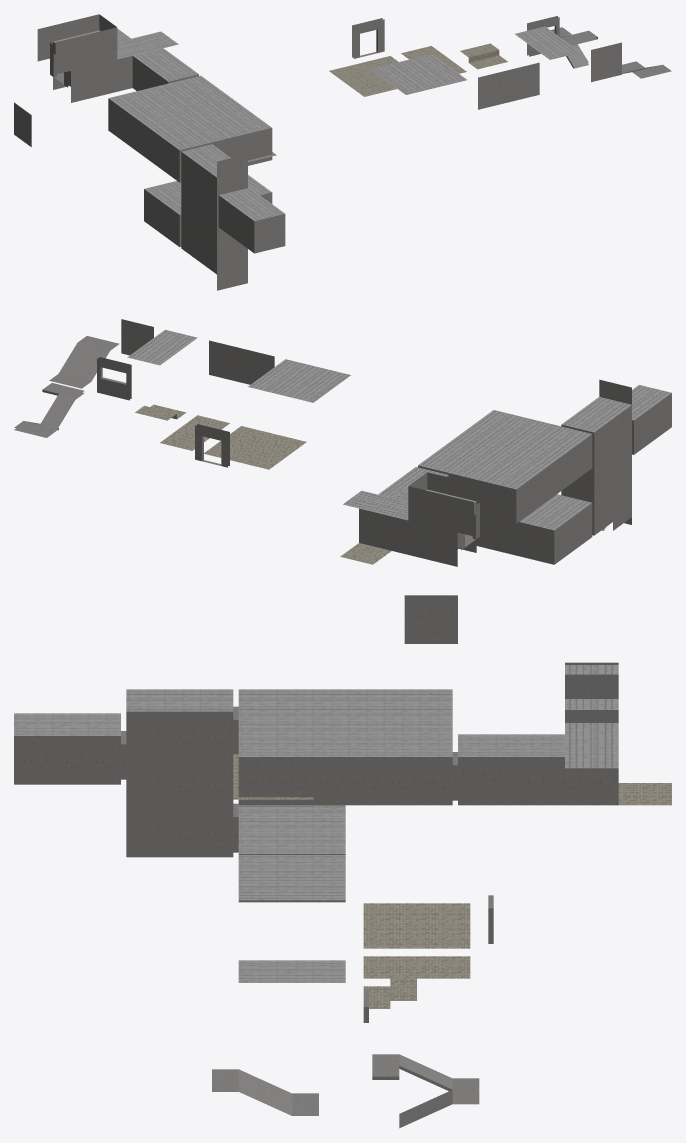
File: realism.glb
The picture shows the model from 3 angles, top to bottom: view 1: azimuth 30°, elevation 25°; view 2: azimuth 150°, elevation 25°; view 3: azimuth 270°, elevation 25°; orthographic projection. The views are drawn at different scales.
Parts seen in each view (by area): view 1: ceiling.001, ceiling.004, wall.029, wall.045, wall.024, ceiling.012, floor.014, wall.007, wall.034, wall.014, wall.011, wall.005 (+26 smaller); view 2: ceiling.004, ceiling.001, ceiling.012, floor.014, wall.034, wall.022, wall.020, wall.045, stairs.003, stairs.004, wall.029, wall.019 (+26 smaller); view 3: wall.038, wall.036, wall.037, wall.009, wall.015, wall.008, floor.014, ceiling.004, ceiling.003, ceiling.001, ceiling.012, wall.021 (+16 smaller).
Part boxes in pixels (<box>): ceiling.001: <box>139,75,235,116</box>; ceiling.004: <box>175,101,271,142</box>; wall.029: <box>55,27,117,74</box>; wall.045: <box>478,62,539,109</box>; wall.024: <box>71,56,132,102</box>; ceiling.012: <box>370,54,466,94</box>; floor.014: <box>329,56,398,96</box>; wall.007: <box>210,128,272,165</box>; wall.034: <box>37,14,99,61</box>; wall.014: <box>218,195,254,252</box>; wall.011: <box>181,184,216,241</box>; wall.005: <box>108,98,143,156</box>; ceiling.004: <box>456,410,558,453</box>; ceiling.001: <box>418,438,520,481</box>; ceiling.012: <box>248,359,350,402</box>; floor.014: <box>204,426,306,469</box>; wall.034: <box>408,486,473,536</box>; wall.022: <box>392,516,457,566</box>; wall.020: <box>488,518,554,564</box>; wall.045: <box>209,340,274,384</box>; stairs.003: <box>49,336,119,388</box>; stairs.004: <box>14,383,84,437</box>; wall.029: <box>427,472,492,522</box>; wall.019: <box>554,503,592,564</box>; wall.038: <box>126,711,233,760</box>; wall.036: <box>126,808,233,857</box>; wall.037: <box>126,760,233,808</box>; wall.009: <box>345,757,452,805</box>; wall.015: <box>14,736,120,784</box>; wall.008: <box>238,757,345,805</box>; floor.014: <box>363,903,470,948</box>; ceiling.004: <box>238,711,345,756</box>; ceiling.003: <box>238,808,345,853</box>; ceiling.001: <box>345,711,452,756</box>; ceiling.012: <box>238,855,345,900</box>; wall.021: <box>511,757,618,805</box>.
Bounding box in the file's own units: 56 × 13.5 × 36.9.
6 materials, 6 textured.
